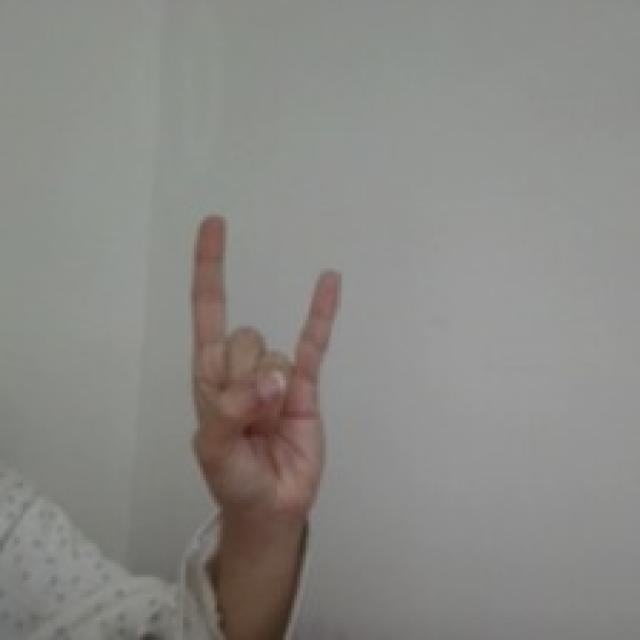No: (182, 207, 350, 533)
